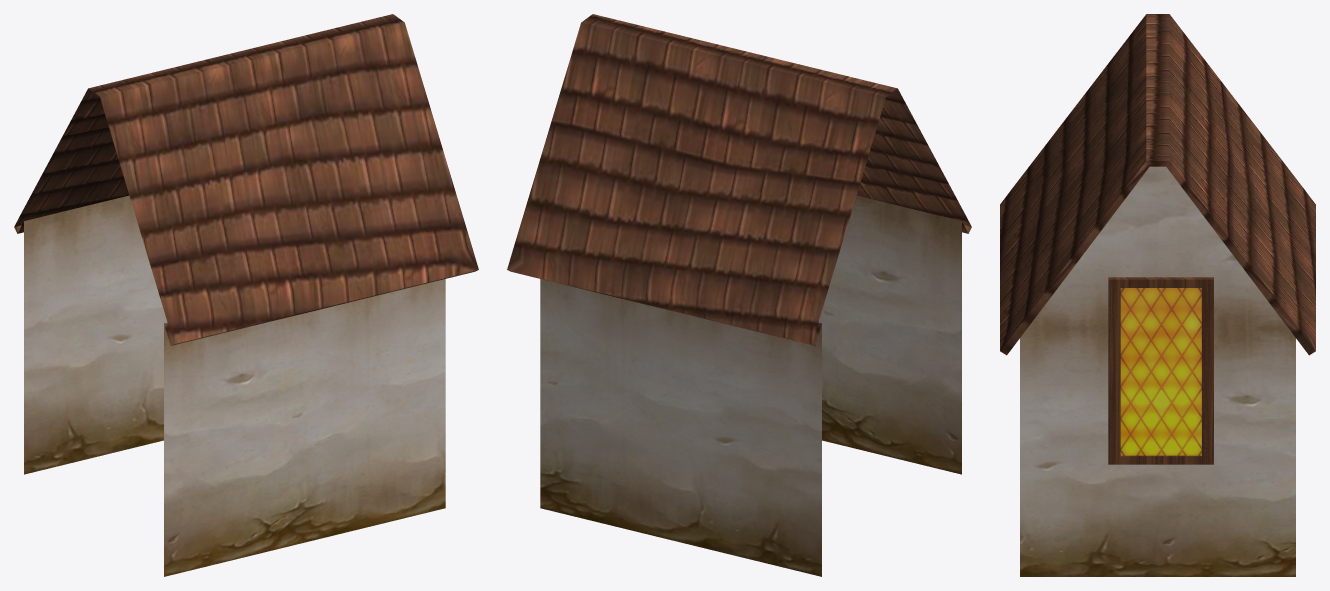
Rendered from House_Mini.fbx.
3 renders of one model, left to right at view 1: azimuth 30°, elevation 25°; view 2: azimuth 150°, elevation 25°; view 3: azimuth 270°, elevation 25°, orthographic.
Parts seen in each view (by area): view 1: pCube14; view 2: pCube14; view 3: pCube14.
Boxes of the visible parts, bbox=[...] form: pCube14: bbox=[14, 14, 478, 576]; pCube14: bbox=[507, 14, 971, 576]; pCube14: bbox=[1000, 14, 1315, 576].
Size of the model in its own units: 7.06 by 9.58 by 6.41.
